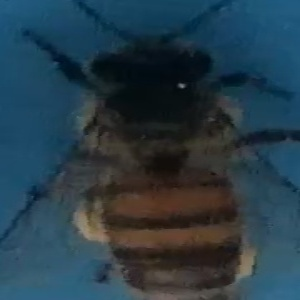bee: (22, 7, 295, 299)
